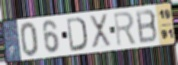0: (20, 21, 39, 58)
6: (42, 19, 61, 55)
B: (135, 9, 159, 45)
D: (65, 16, 88, 53)
R: (112, 10, 138, 48)
X: (88, 12, 113, 49)
